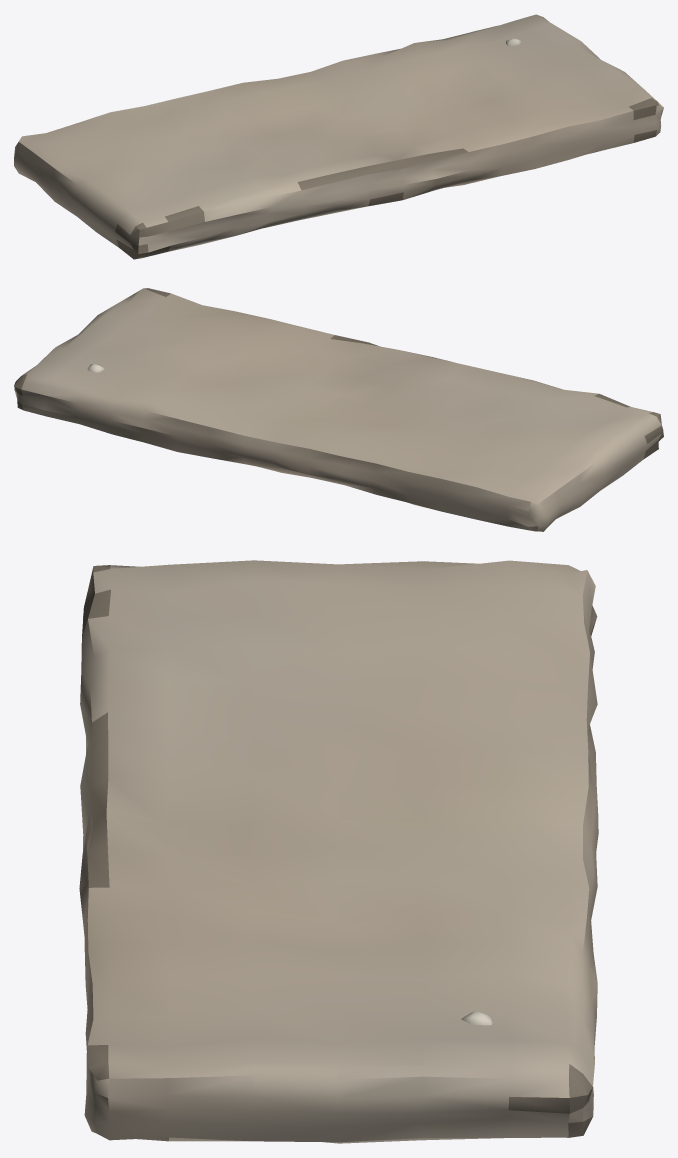
The model's file is shore_driftwood_plank.glb.
3 views of the same model, one above another, from view 1: azimuth 30°, elevation 25°; view 2: azimuth 150°, elevation 25°; view 3: azimuth 270°, elevation 25° (orthographic). The views are drawn at different scales.
Visible parts, largest first — view 1: shore_driftwood_plank; view 2: shore_driftwood_plank; view 3: shore_driftwood_plank.
Part boxes in pixels (x1,y1,x2,y2): shore_driftwood_plank: [14, 14, 663, 259]; shore_driftwood_plank: [14, 288, 663, 531]; shore_driftwood_plank: [79, 560, 598, 1143].
Size of the model in its own units: 12.11 by 1.01 by 5.11.
